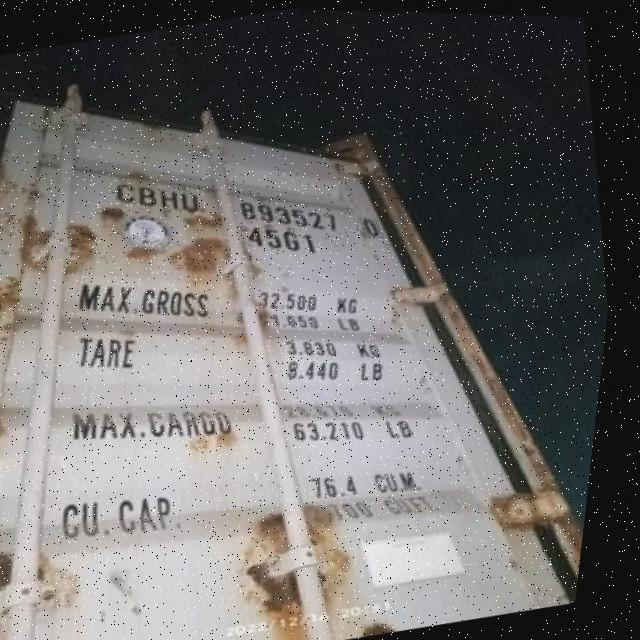container_number_h: (82, 116, 432, 312)
